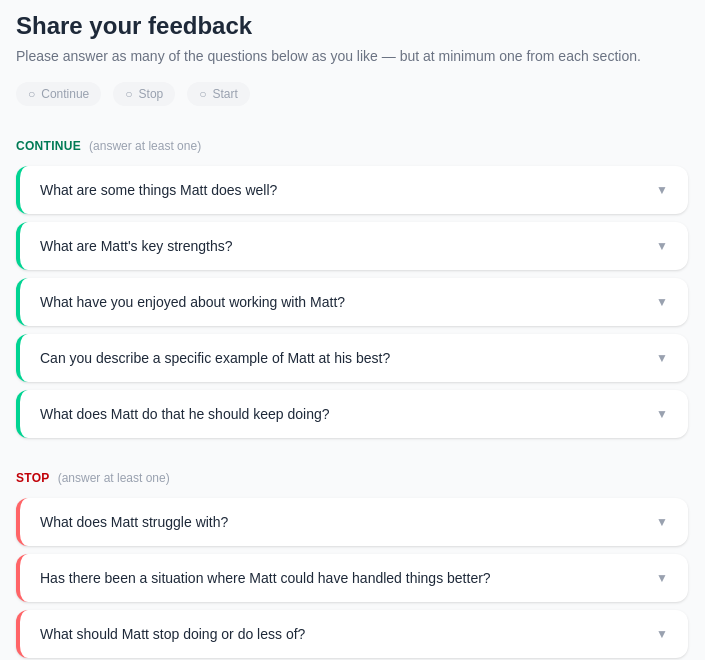
Test: Feedback form › section completion indicators update as questions are filled
The width and height of the screenshot is (705, 660).
Expected: the element named "continue: incomplete" is shown, [16,82,101,106]
Click the text "What are some things Matt does well?": {"x": 159, "y": 190} [40,180,277,200]
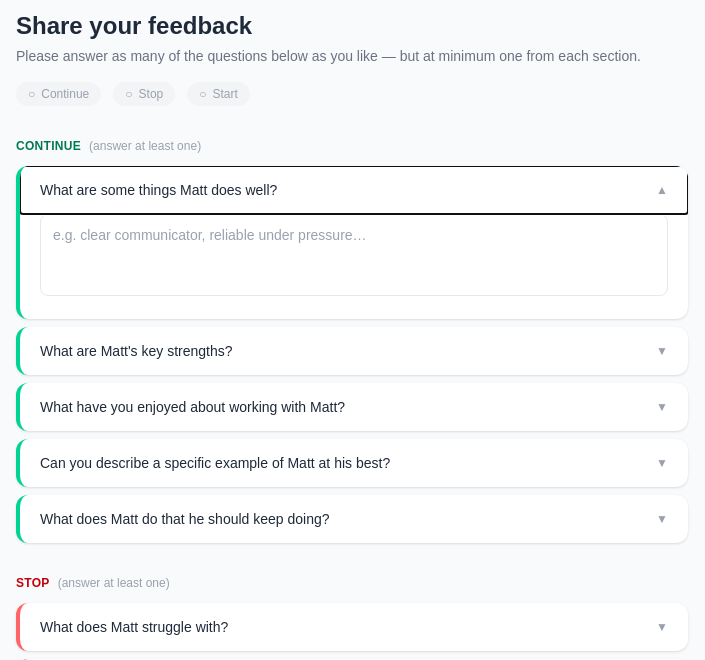
In the text box with placeholder "e.g. clear communicator, reliable under pressure…": {"x": 354, "y": 255} [40,214,668,296], type "Great communicator"
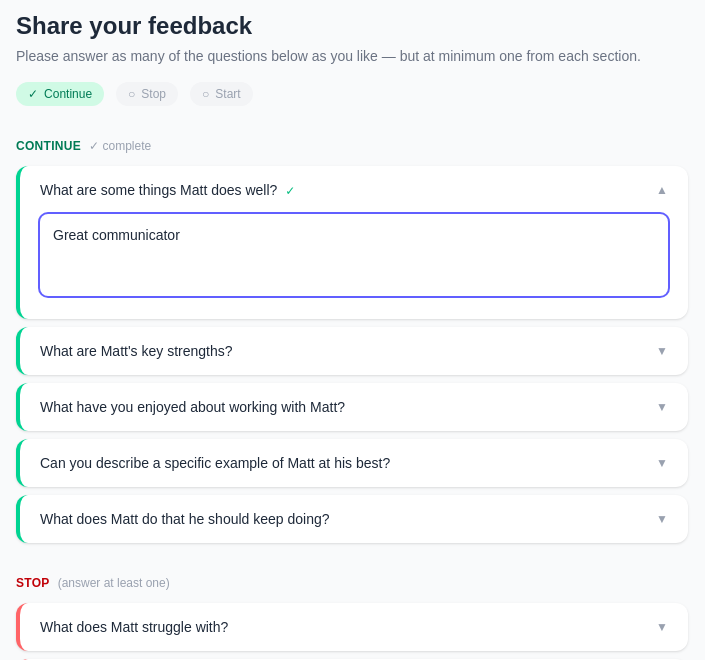
Expected: the element named "continue: complete" is shown, [16,82,104,106]
